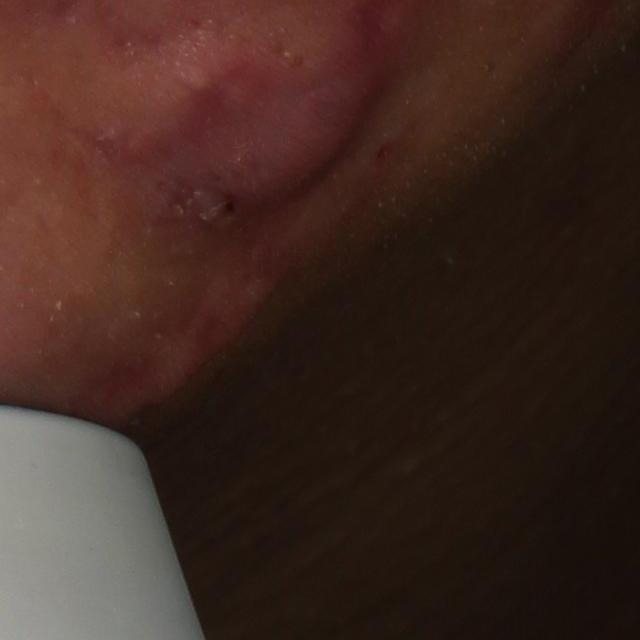nodule: (85, 9, 420, 251)
